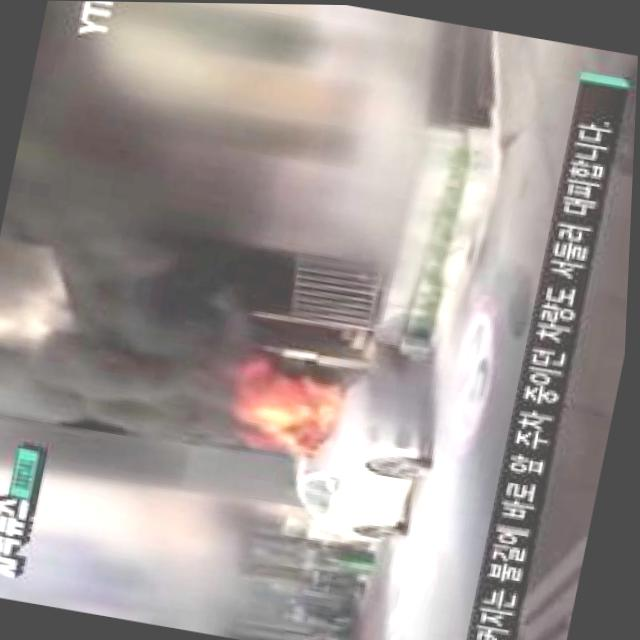helmet: (241, 364, 340, 449)
